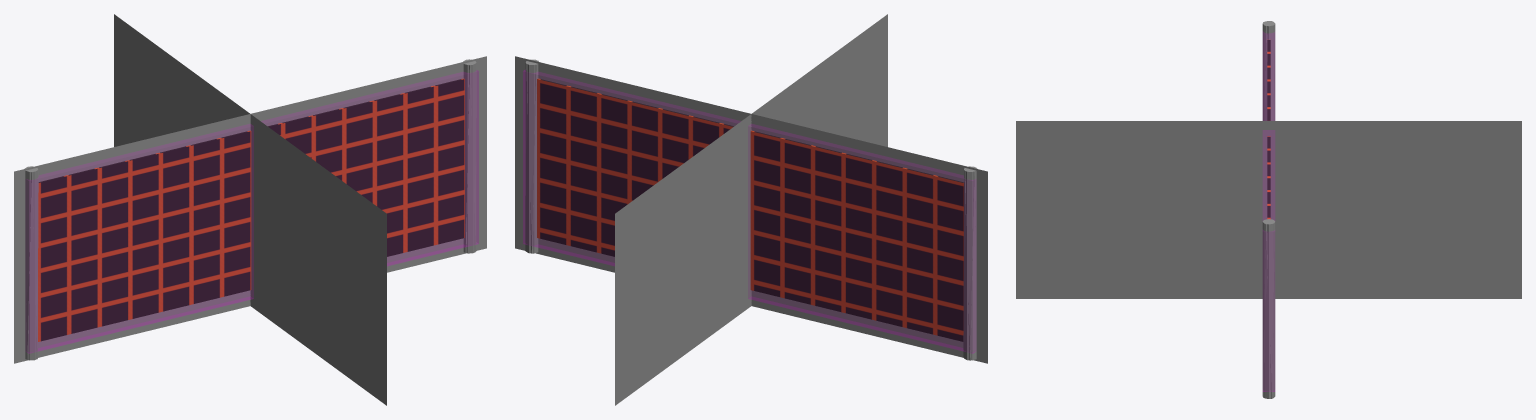
The model's file is safetynet_orange_3m.dae.
3 views of the same model, side by side, from view 1: azimuth 30°, elevation 25°; view 2: azimuth 150°, elevation 25°; view 3: azimuth 270°, elevation 25° (orthographic). The views are drawn at different scales.
Visible parts, largest first — view 1: safetynet_orange_3m_a800, Colmesh_panel-1, safetynet_orange_3m_a50, safetynet_orange_3m_a200; view 2: safetynet_orange_3m_a800, Colmesh_panel-1, safetynet_orange_3m_a50, safetynet_orange_3m_a200; view 3: safetynet_orange_3m_a50, safetynet_orange_3m_a800, Colmesh_panel-1, safetynet_orange_3m_a200.
Part boxes in pixels (left/top/right/bottom): safetynet_orange_3m_a800: left=24, top=59, right=476, bottom=360; Colmesh_panel-1: left=26, top=70, right=478, bottom=353; safetynet_orange_3m_a50: left=14, top=14, right=486, bottom=405; safetynet_orange_3m_a200: left=26, top=59, right=476, bottom=360; safetynet_orange_3m_a800: left=525, top=59, right=977, bottom=360; Colmesh_panel-1: left=523, top=70, right=975, bottom=353; safetynet_orange_3m_a50: left=515, top=14, right=987, bottom=405; safetynet_orange_3m_a200: left=525, top=60, right=976, bottom=360; safetynet_orange_3m_a50: left=1016, top=121, right=1521, bottom=298; safetynet_orange_3m_a800: left=1262, top=21, right=1275, bottom=398; Colmesh_panel-1: left=1263, top=32, right=1274, bottom=391; safetynet_orange_3m_a200: left=1263, top=21, right=1274, bottom=398.
Bounding box in the file's own units: 3.15 × 3.15 × 1.22.
Materials: 3 (1 with a texture image).
